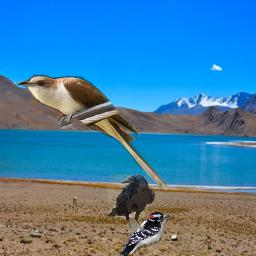Crow: (107, 174, 155, 232)
Cuckoo: (16, 74, 171, 193)
Woodpecker: (118, 212, 170, 256)
